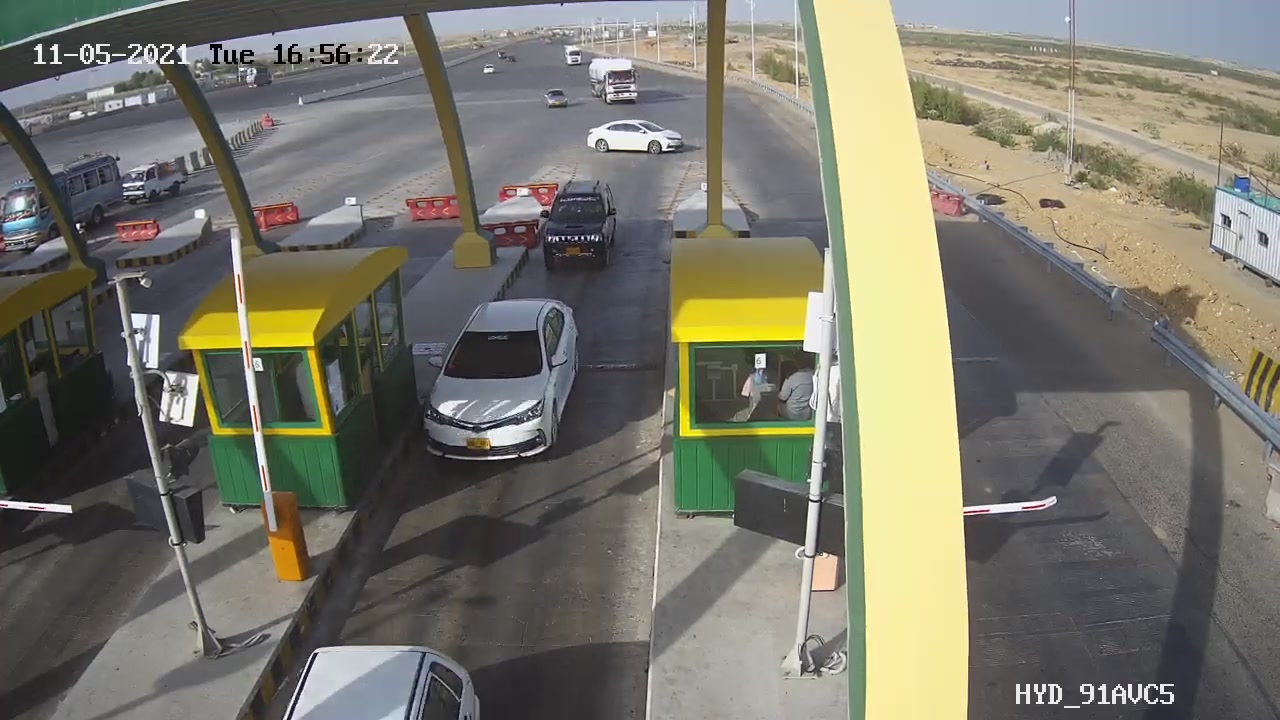F1: (400, 285, 602, 482), (524, 169, 632, 290)
